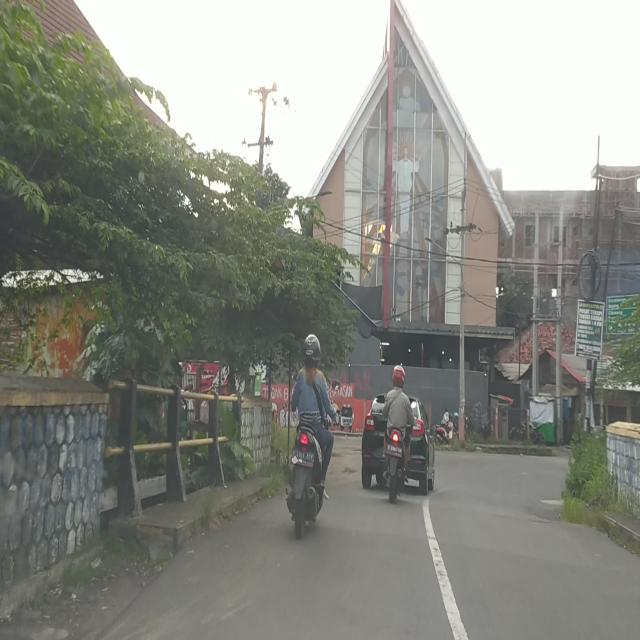Sewer Cover: (495, 513, 563, 525)
